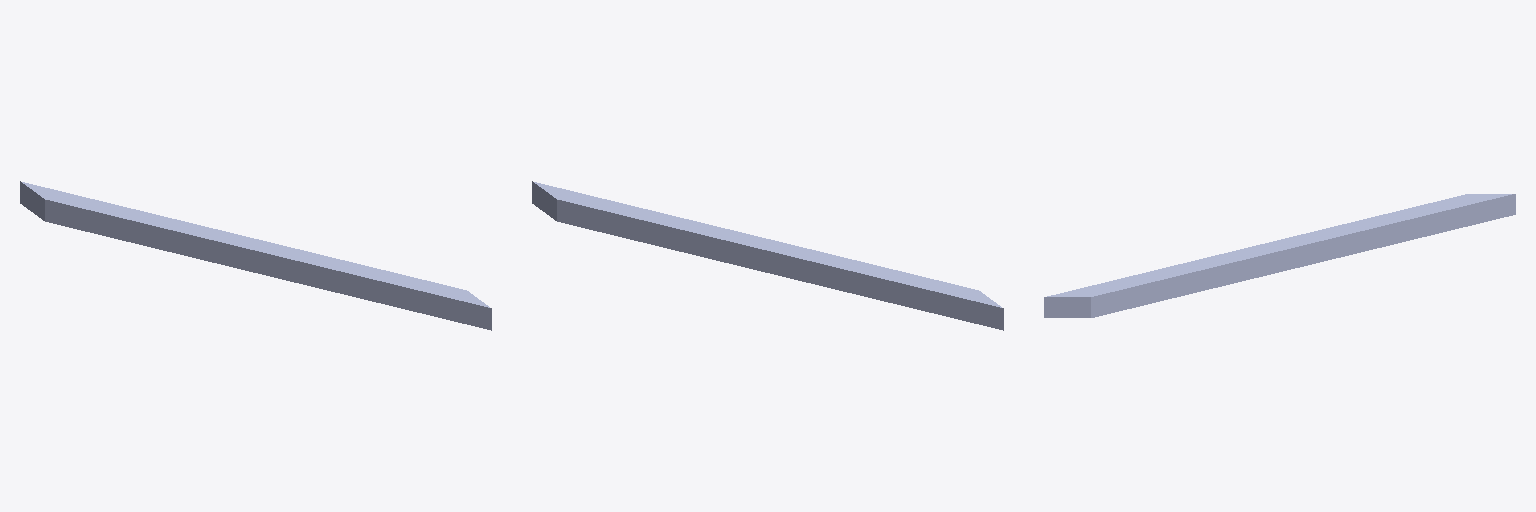
URDF robot description (road3):
<?xml version="1.0" encoding="utf-8"?>
<!-- This URDF was automatically created by SolidWorks to URDF Exporter! Originally created by [author] ([email redacted]) 
     Commit Version: 1.6.0-4-g7f85cfe  Build Version: 1.6.7995.38578
     For more information, please see http://wiki.ros.org/sw_urdf_exporter -->
<robot
  name="road3">
  <link
    name="base_link">
    <inertial>
      <origin
        xyz="0.011254 0.01 0.40187"
        rpy="0 0 0" />
      <mass
        value="0.168" />
      <inertia
        ixx="0.0018802"
        ixy="-4.3556E-21"
        ixz="-0.0010694"
        iyy="0.002492"
        iyz="-2.6654E-21"
        izz="0.000623" />
    </inertial>
    <visual>
      <origin
        xyz="0 0 0"
        rpy="0 0 0" />
      <geometry>
        <mesh
          filename="package://road3/meshes/base_link.STL" />
      </geometry>
      <material
        name="">
        <color
          rgba="0.79216 0.81961 0.93333 1" />
      </material>
    </visual>
    <collision>
      <origin
        xyz="0 0 0"
        rpy="0 0 0" />
      <geometry>
        <mesh
          filename="package://road3/meshes/base_link.STL" />
      </geometry>
    </collision>
  </link>
</robot>

--- Render facts (derived) ---
Views: 3 orthographic renders of the robot side by side, from view 1: azimuth 30°, elevation 25°; view 2: azimuth 210°, elevation 25°; view 3: azimuth 270°, elevation 25°.
Model road3 with 1 links and 0 joints (none), rooted at base_link, posed all joints at 0.
Links seen in each view (by area): view 1: base_link; view 2: base_link; view 3: base_link.
Link boxes in pixels (x1=…): base_link: x1=20, y1=181, x2=491, y2=330; base_link: x1=532, y1=181, x2=1003, y2=330; base_link: x1=1044, y1=194, x2=1515, y2=317.
Bounding box of the posed robot: 0.21 × 0.4037 × 0.02 m (x, y, z).
Meshes: 1 distinct files referenced, 1 mesh visuals loaded (1 binary STL).